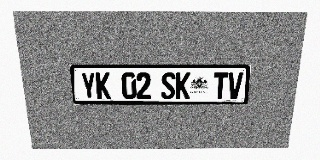0: (121, 72, 136, 99)
2: (136, 72, 151, 99)
K: (95, 72, 111, 99), (176, 72, 190, 99)
S: (161, 72, 175, 99)
T: (213, 72, 228, 99)
V: (227, 72, 243, 99)
Y: (80, 72, 96, 99)
